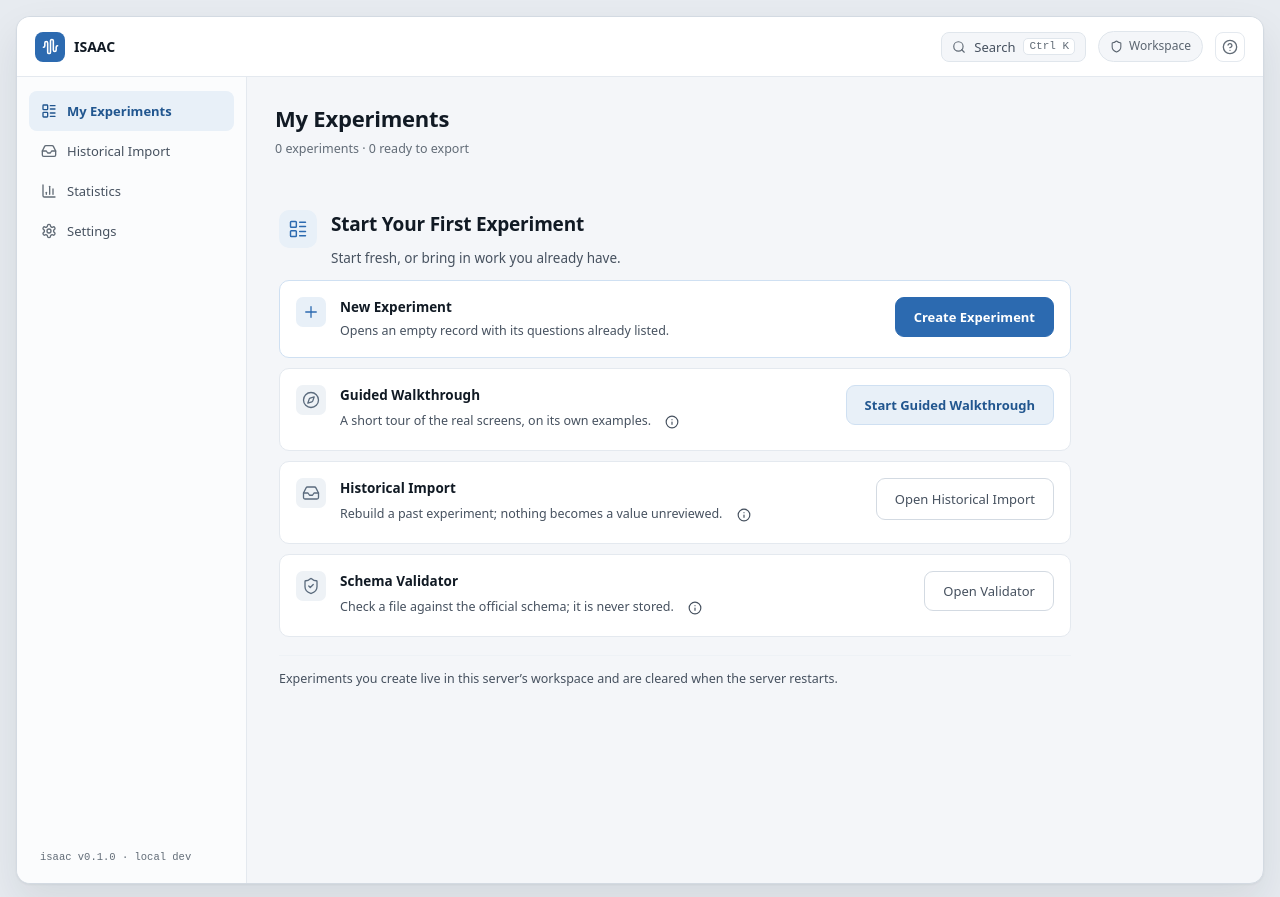
My Experiments · Create Experiment › opens a form that asks for a name and NOTHING scientific
Expected: the heading "Start Your First Experiment" is shown, [331, 210, 621, 240]
Click the button "Create Experiment".
click(974, 316)  # box [895, 296, 1054, 336]
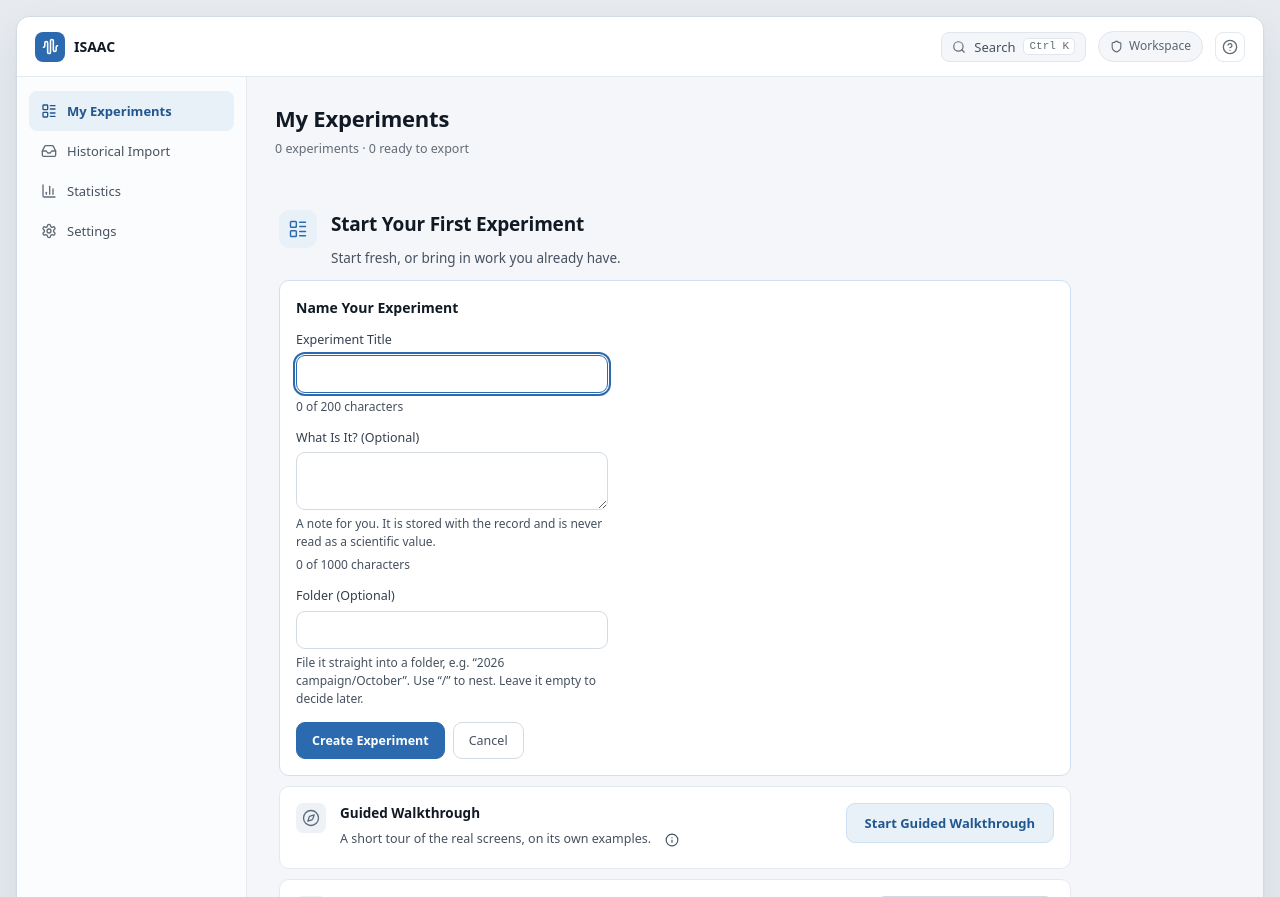
Expected: the heading "Name Your Experiment" is shown, [296, 298, 458, 316]
Expected: the field labelled "Experiment Title" is shown, [296, 355, 608, 393]
Expected: the text box labelled "What Is It? (Optional)" is shown, [296, 452, 608, 510]
